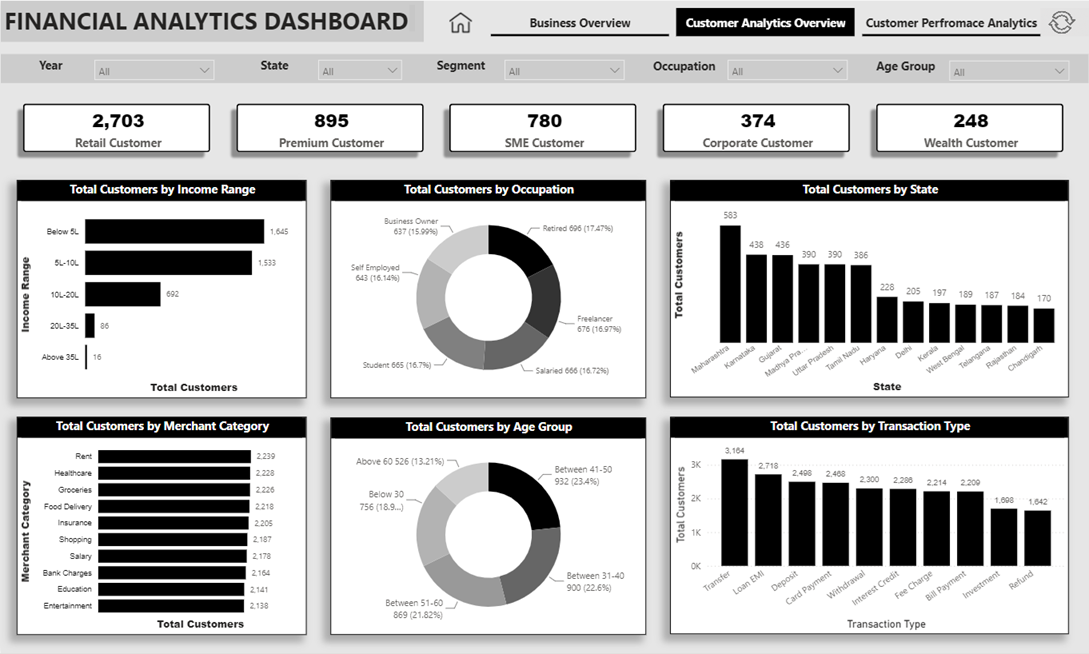

What the dashboard file says about the page in this screenshot:
{"tool":"powerbi","page":{"name":"Customer Analytics Overview","canvas":[1500,900],"ordinal":2},"visuals":[{"type":"shape","box":[0,0,583.9,56.8],"z":0,"group":"g8"},{"type":"group","id":"g1","title":"Group 6","box":[18.8,71.3,285.2,39.1],"z":0,"group":"g7"},{"type":"actionButton","box":[1426.1,10.3,74.4,39.3],"z":1000},{"type":"group","id":"g2","title":"Group 7","box":[327.8,71.3,235.6,39.1],"z":1000,"group":"g7"},{"type":"textbox","box":[0,0,576.6,49.6],"z":2000,"group":"g8"},{"type":"group","id":"g3","title":"Group 8","box":[584.1,71.3,285.2,40.1],"z":3000,"group":"g7"},{"type":"cardVisual","fields":{"Data":["customers csv.Retail Customer","customers csv.Premium Customer","customers csv.SME Customer","customers csv.Corporate Customer","customers csv.Wealth Customer"]},"box":[0,111.6,1500.5,129.2],"z":3000},{"type":"group","id":"g4","title":"Group 1","box":[0,71.3,1500.5,42.4],"z":4000},{"type":"group","id":"g5","title":"Group 9","box":[1198.2,72.5,285.4,38.8],"z":5000,"group":"g7"},{"type":"donutChart","fields":{"Category":["customers csv.age_group"],"Y":["finance_transactions csv.Total Customers"]},"box":[454.7,574.6,435,299.7],"z":5000},{"type":"slicer","fields":{"Values":["finance_transactions csv.Transaction_Year"]},"box":[118.8,71.3,185,38.8],"z":6000,"group":"g1"},{"type":"group","id":"g6","title":"Group 10","box":[892,71.8,285.4,39.5],"z":6000,"group":"g7"},{"type":"clusteredColumnChart","fields":{"Category":["customers csv.state"],"Y":["finance_transactions csv.Total Customers"]},"box":[922.8,247,550,299.7],"z":6000},{"type":"slicer","fields":{"Values":["customers csv.state"]},"box":[427.8,71.3,135.5,39.3],"z":7000,"group":"g2"},{"type":"shape","box":[0,73.7,1500.5,40.3],"z":7000,"group":"g4"},{"type":"clusteredBarChart","fields":{"Category":["customers csv.income_range"],"Y":["finance_transactions csv.Total Customers"]},"box":[21.7,247,399.9,300.7],"z":7000},{"type":"slicer","fields":{"Values":["customers csv.customer_segment"]},"box":[684.1,71.3,185,39.3],"z":8000,"group":"g3"},{"type":"donutChart","fields":{"Category":["customers csv.occupation"],"Y":["finance_transactions csv.Total Customers"]},"box":[454.7,247,435,300.7],"z":8000},{"type":"group","id":"g7","title":"Slicer","box":[18.8,71.3,1465,40],"z":8001,"group":"g4"},{"type":"slicer","fields":{"Values":["customers csv.occupation"]},"box":[992.1,71.8,185,39.1],"z":9000,"group":"g6"},{"type":"slicer","fields":{"Values":["customers csv.age_group"]},"box":[1298.2,72.5,185,39.3],"z":9000,"group":"g5"},{"type":"clusteredColumnChart","fields":{"Category":["finance_transactions csv.transaction_type"],"Y":["finance_transactions csv.Total Customers"]},"box":[922.8,573.5,549.8,299.7],"z":9000},{"type":"textbox","box":[18.8,71.3,100,38.8],"z":10000,"group":"g1"},{"type":"textbox","box":[892,72.4,100.5,38.8],"z":10000,"group":"g6"},{"type":"textbox","box":[1198.2,72.5,100,39.3],"z":10000,"group":"g5"},{"type":"clusteredBarChart","fields":{"Category":["finance_transactions csv.merchant_category"],"Y":["finance_transactions csv.Total Customers"]},"box":[21.7,573.5,399.9,300.7],"z":10000},{"type":"group","id":"g8","title":"Group 2","box":[0,0,583.9,56.8],"z":10002},{"type":"textbox","box":[584.1,71.3,100,39.3],"z":10002,"group":"g3"},{"type":"textbox","box":[327.8,71.8,100,38.8],"z":10002,"group":"g2"},{"type":"pageNavigator","box":[675.8,10.3,758.5,39.3],"z":10003},{"type":"actionButton","box":[597.3,10.3,74.4,39.3],"z":10004}]}

Visuals, with their boxes in screenshot pixels (x1, y1, x2, y2), scaled from the page's 1500x900 canvas onto the 1089x654 screenshot:
shape: 0:0:424:41
"Group 6" group: 14:52:221:80
actionButton: 1035:7:1088:36
"Group 7" group: 238:52:409:80
textbox: 0:0:419:36
"Group 8" group: 424:52:631:81
cardVisual - customers csv.Retail Customer x customers csv.Premium Customer: 0:81:1088:175
"Group 1" group: 0:52:1088:83
"Group 9" group: 870:53:1077:81
donutChart - customers csv.age_group x finance_transactions csv.Total Customers: 330:418:646:635
slicer - finance_transactions csv.Transaction_Year: 86:52:221:80
"Group 10" group: 648:52:855:81
clusteredColumnChart - customers csv.state x finance_transactions csv.Total Customers: 670:179:1069:397
slicer - customers csv.state: 311:52:409:80
shape: 0:54:1088:83
clusteredBarChart - customers csv.income_range x finance_transactions csv.Total Customers: 16:179:306:398
slicer - customers csv.customer_segment: 497:52:631:80
donutChart - customers csv.occupation x finance_transactions csv.Total Customers: 330:179:646:398
"Slicer" group: 14:52:1077:81
slicer - customers csv.occupation: 720:52:855:81
slicer - customers csv.age_group: 942:53:1077:81
clusteredColumnChart - finance_transactions csv.transaction_type x finance_transactions csv.Total Customers: 670:417:1069:635
textbox: 14:52:86:80
textbox: 648:53:721:81
textbox: 870:53:942:81
clusteredBarChart - finance_transactions csv.merchant_category x finance_transactions csv.Total Customers: 16:417:306:635
"Group 2" group: 0:0:424:41
textbox: 424:52:497:80
textbox: 238:52:311:80
pageNavigator: 491:7:1041:36
actionButton: 434:7:488:36
